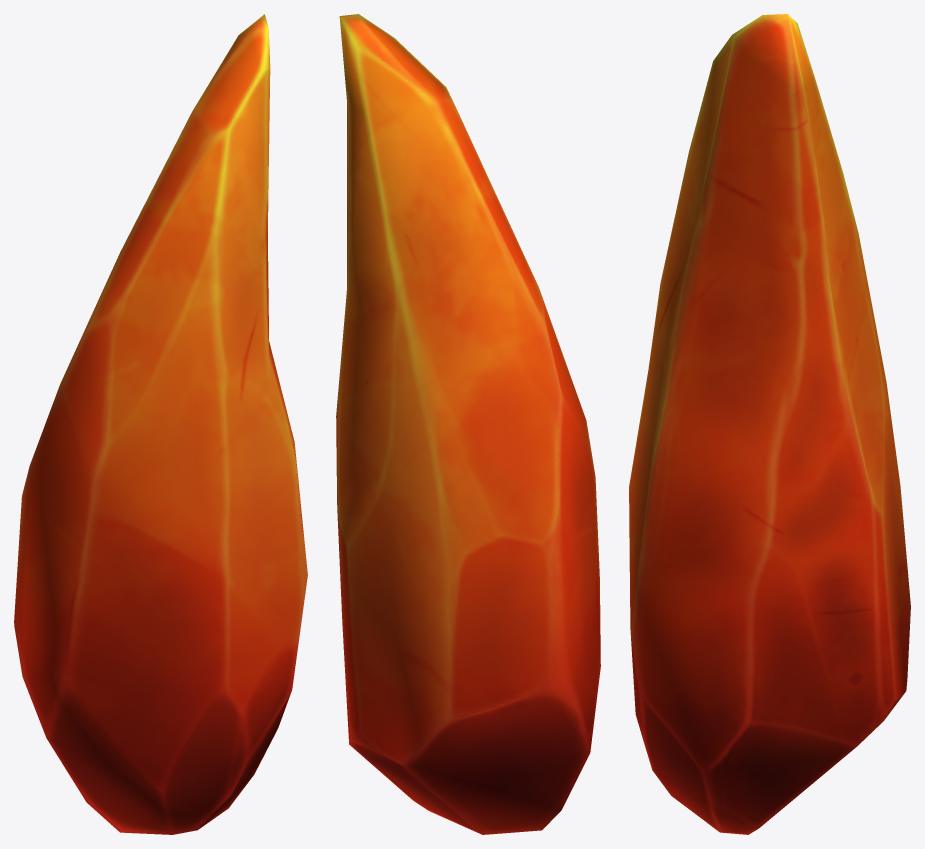
Rendered from SM_Gem_FireCrystal_011.fbx.
3 views of the same model, side by side, from view 1: azimuth 30°, elevation 25°; view 2: azimuth 150°, elevation 25°; view 3: azimuth 270°, elevation 25° (orthographic). The views are drawn at different scales.
Parts seen in each view (by area): view 1: SM_Gem_FireCrystal_011; view 2: SM_Gem_FireCrystal_011; view 3: SM_Gem_FireCrystal_011.
Boxes of the visible parts, x1=… form: SM_Gem_FireCrystal_011: x1=14, y1=14, x2=307, y2=834; SM_Gem_FireCrystal_011: x1=336, y1=14, x2=600, y2=834; SM_Gem_FireCrystal_011: x1=629, y1=14, x2=910, y2=834.
Bounding box in the file's own units: 21.24 × 62.82 × 18.67.
